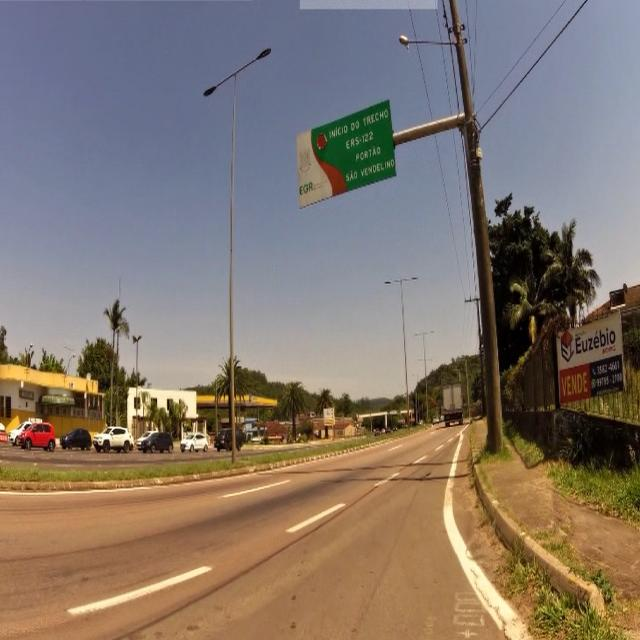I-4: (318, 104, 388, 175)
